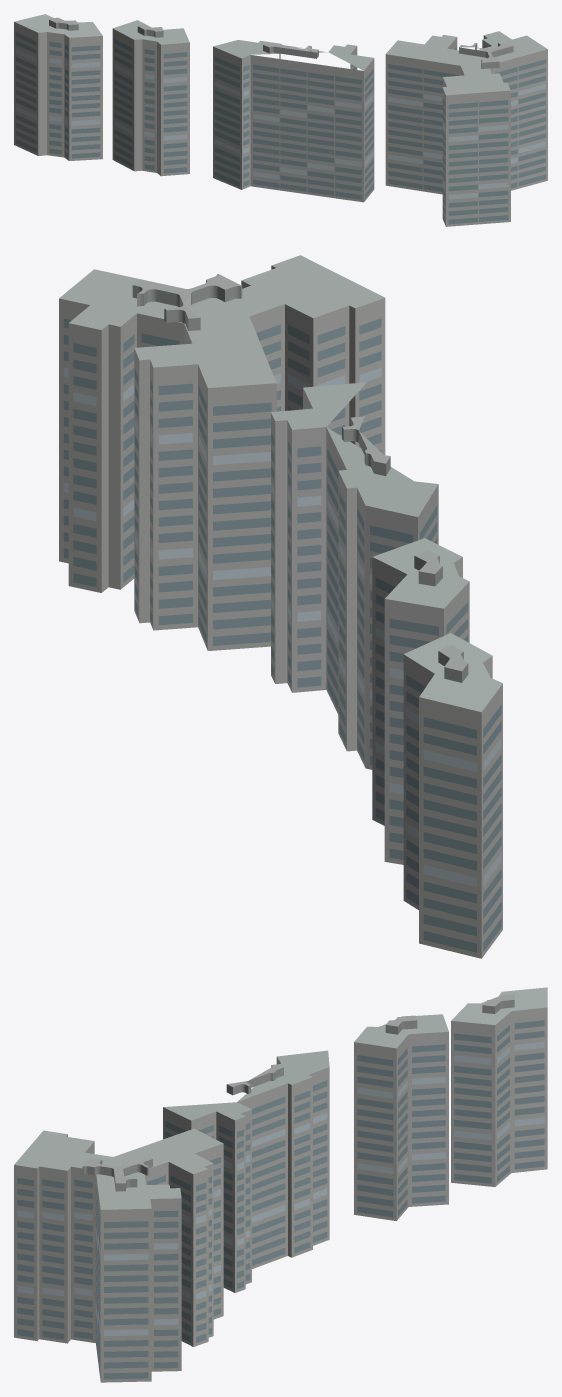
Rendered from apt-a10025710.glb.
3 views of the same model, one above another, from view 1: azimuth 30°, elevation 25°; view 2: azimuth 150°, elevation 25°; view 3: azimuth 270°, elevation 25° (orthographic). The views are drawn at different scales.
Visible parts, largest first — view 1: apt-a10025710; view 2: apt-a10025710; view 3: apt-a10025710.
Part boxes in pixels (x1,y1,x2,y2): apt-a10025710: (14, 14, 547, 226); apt-a10025710: (59, 255, 502, 958); apt-a10025710: (14, 987, 547, 1382).
Size of the model in its own units: 133 by 48 by 128.
